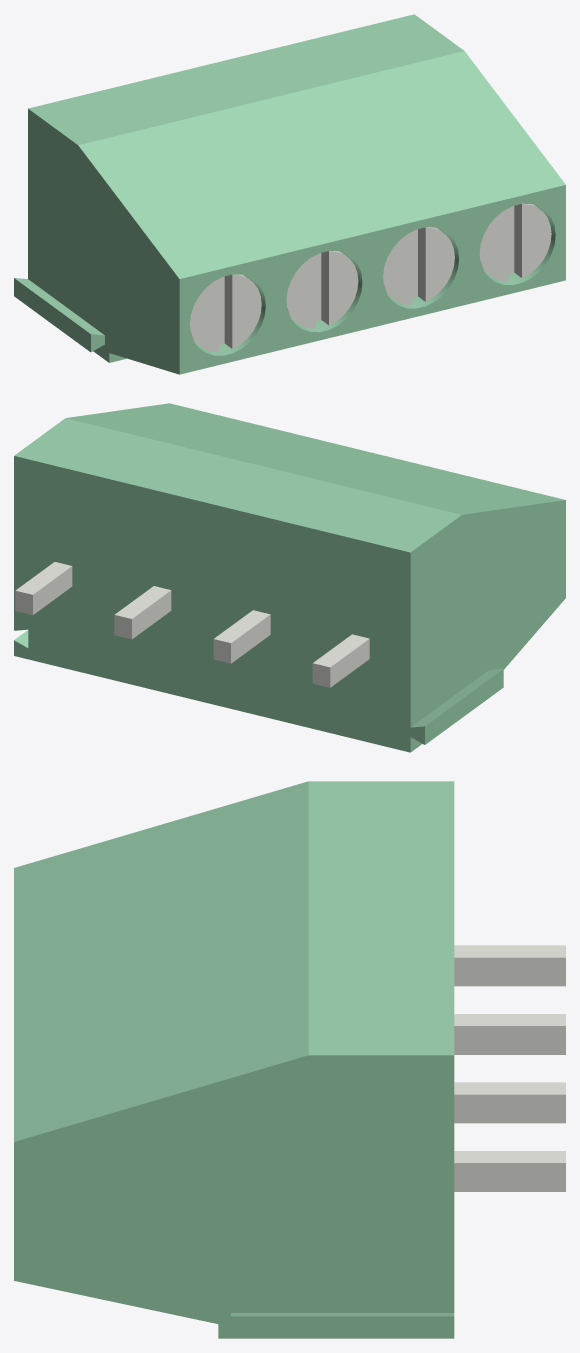
Rendered from TerminalBlock_Phoenix_MKDS-1,5-4-5.08_1x04_P5.08mm_Horizontal.glb.
The picture shows the model from 3 angles, top to bottom: view 1: azimuth 30°, elevation 25°; view 2: azimuth 150°, elevation 25°; view 3: azimuth 270°, elevation 25°; orthographic projection. The views are drawn at different scales.
Parts seen in each view (by area): view 1: Shape_IndexedFaceSet.003, Shape_IndexedFaceSet, Shape_IndexedFaceSet.004, Shape_IndexedFaceSet.002, Shape_IndexedFaceSet.117, Shape_IndexedFaceSet.137, Shape_IndexedFaceSet.127, Shape_IndexedFaceSet.121, Shape_IndexedFaceSet.147, Shape_IndexedFaceSet.151, Shape_IndexedFaceSet.131, Shape_IndexedFaceSet.141 (+12 smaller); view 2: Shape_IndexedFaceSet.005, Shape_IndexedFaceSet, Shape_IndexedFaceSet.004, Shape_IndexedFaceSet.003, Shape_IndexedFaceSet.016, Shape_IndexedFaceSet.021, Shape_IndexedFaceSet.025, Shape_IndexedFaceSet.033, Shape_IndexedFaceSet.029, Shape_IndexedFaceSet.006, Shape_IndexedFaceSet.034, Shape_IndexedFaceSet.026 (+2 smaller); view 3: Shape_IndexedFaceSet.011, Shape_IndexedFaceSet.003, Shape_IndexedFaceSet.004, Shape_IndexedFaceSet.027, Shape_IndexedFaceSet.035, Shape_IndexedFaceSet.023, Shape_IndexedFaceSet.031, Shape_IndexedFaceSet.018, Shape_IndexedFaceSet.026, Shape_IndexedFaceSet.034, Shape_IndexedFaceSet.022, Shape_IndexedFaceSet.030 (+1 smaller).
Boxes of the visible parts, x1,y1,x2,y2 form: Shape_IndexedFaceSet.003: [78, 51, 565, 278]; Shape_IndexedFaceSet: [28, 109, 179, 374]; Shape_IndexedFaceSet.004: [28, 14, 463, 145]; Shape_IndexedFaceSet.002: [179, 185, 565, 374]; Shape_IndexedFaceSet.117: [425, 227, 454, 301]; Shape_IndexedFaceSet.137: [232, 274, 261, 348]; Shape_IndexedFaceSet.127: [522, 204, 551, 277]; Shape_IndexedFaceSet.121: [383, 232, 412, 304]; Shape_IndexedFaceSet.147: [329, 251, 358, 325]; Shape_IndexedFaceSet.151: [286, 255, 315, 328]; Shape_IndexedFaceSet.131: [479, 208, 508, 281]; Shape_IndexedFaceSet.141: [190, 279, 218, 352]; Shape_IndexedFaceSet.005: [14, 456, 424, 752]; Shape_IndexedFaceSet: [410, 500, 565, 751]; Shape_IndexedFaceSet.004: [14, 418, 461, 552]; Shape_IndexedFaceSet.003: [66, 403, 564, 514]; Shape_IndexedFaceSet.016: [425, 669, 503, 744]; Shape_IndexedFaceSet.021: [33, 566, 72, 614]; Shape_IndexedFaceSet.025: [132, 590, 171, 639]; Shape_IndexedFaceSet.033: [330, 639, 369, 687]; Shape_IndexedFaceSet.029: [231, 614, 270, 663]; Shape_IndexedFaceSet.006: [411, 668, 503, 727]; Shape_IndexedFaceSet.034: [313, 634, 369, 667]; Shape_IndexedFaceSet.026: [115, 586, 170, 618]; Shape_IndexedFaceSet.011: [14, 1055, 454, 1338]; Shape_IndexedFaceSet.003: [14, 781, 308, 1141]; Shape_IndexedFaceSet.004: [308, 781, 454, 1055]; Shape_IndexedFaceSet.027: [454, 1094, 565, 1123]; Shape_IndexedFaceSet.035: [454, 957, 565, 986]; Shape_IndexedFaceSet.023: [454, 1163, 565, 1191]; Shape_IndexedFaceSet.031: [454, 1026, 565, 1054]; Shape_IndexedFaceSet.018: [231, 1303, 454, 1312]; Shape_IndexedFaceSet.026: [454, 1082, 565, 1094]; Shape_IndexedFaceSet.034: [454, 945, 565, 957]; Shape_IndexedFaceSet.022: [454, 1151, 565, 1162]; Shape_IndexedFaceSet.030: [454, 1014, 565, 1025].
Size of the model in its own units: 8.29 by 3.86 by 6.81.
